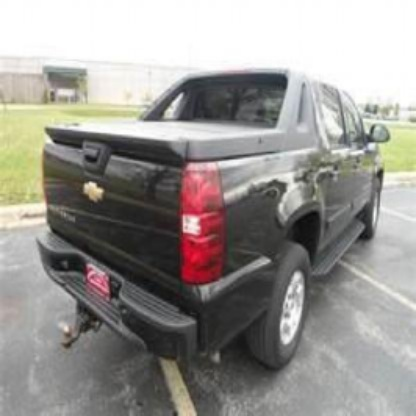Vehicle: (36, 68, 394, 381)
